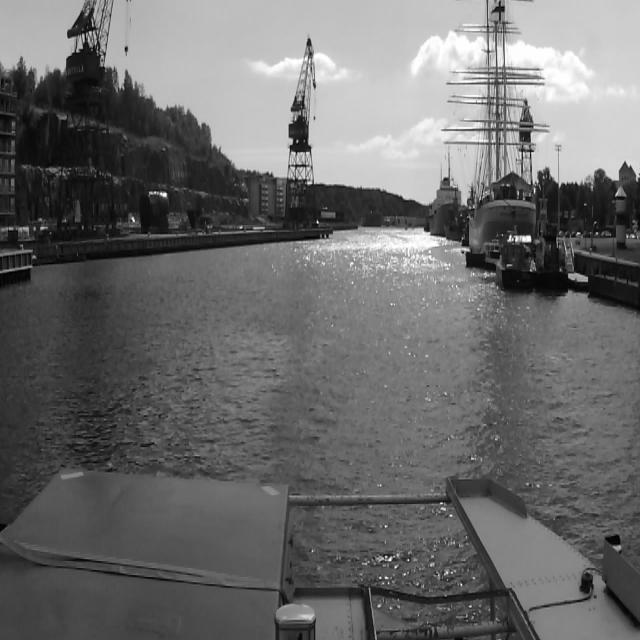ship: (464, 0, 549, 228), (494, 238, 536, 294), (429, 178, 461, 239), (542, 237, 566, 295)
